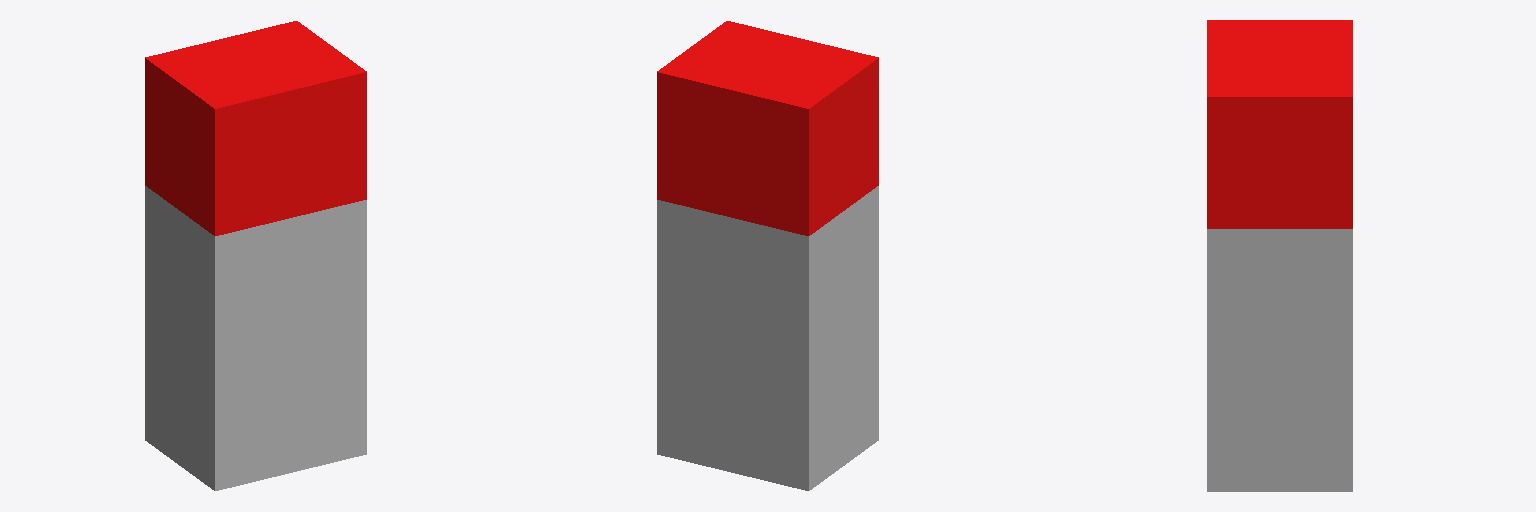
robot.urdf — part:
<?xml version="1.0"?>
<robot name="part"> 
  <link name="base_link">
    <visual>
      <geometry>
        <box size="0.5 0.4 0.4"/>
      </geometry>
      <origin xyz="0 0 0.2"/>
      <material name="Red">
        <color rgba="1 0.1 0.1 0.6"/>
      </material>
    </visual>
    <collision>
      <geometry>
        <box size="0.5 0.4 0.4"/>
      </geometry>
      <origin xyz="0 0 0.2"/>
    </collision>
    <visual>
      <geometry>
        <box size="0.5 0.4 0.8"/>
      </geometry>
      <origin xyz="0 0 -0.4"/>
      <material name="Grey">
        <color rgba="0.8 0.8 0.8 1"/>
      </material>
    </visual>
    <collision>
      <geometry>
        <box size="0.5 0.4 0.8"/>
      </geometry>
      <origin xyz="0 0 -0.4"/>
    </collision>
  </link>
</robot>

--- Render facts (derived) ---
The picture shows the robot from 3 angles, left to right: view 1: azimuth 30°, elevation 25°; view 2: azimuth 150°, elevation 25°; view 3: azimuth 270°, elevation 25°; orthographic projection.
Model part with 1 links and 0 joints (none), rooted at base_link, posed every joint at zero.
Links seen in each view (by area): view 1: base_link; view 2: base_link; view 3: base_link.
Boxes of the visible links, x1,y1,x2,y2 form: base_link: (145, 21, 366, 490); base_link: (657, 21, 878, 490); base_link: (1207, 20, 1352, 491).
Bounding box of the posed robot: 0.5 × 0.4 × 1.2 m (x, y, z).
Geometry: primitives only (box / cylinder / sphere), no mesh files.